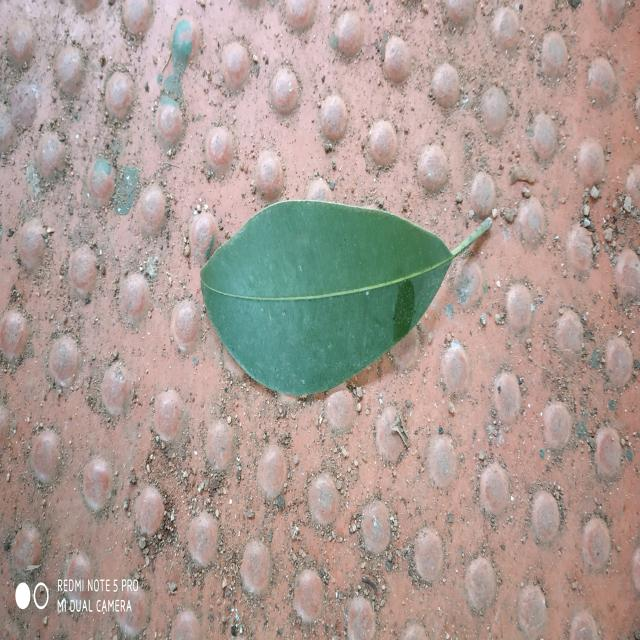sapota: (200, 200, 491, 396)
